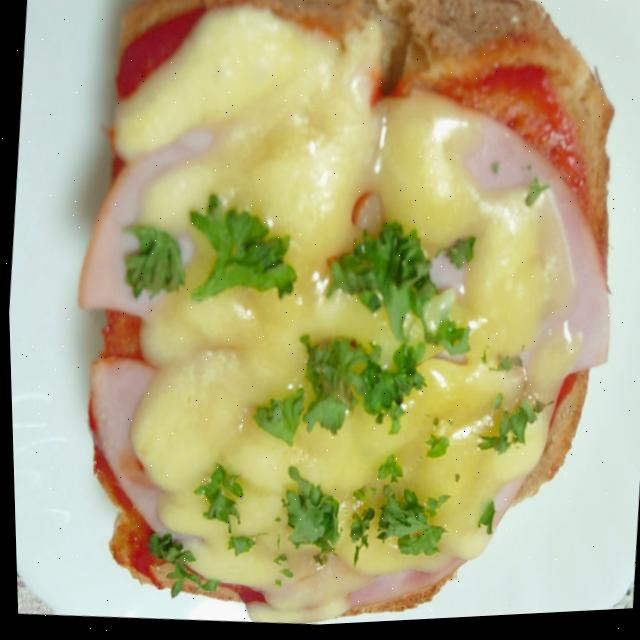面包点心: (169, 149, 640, 633)
